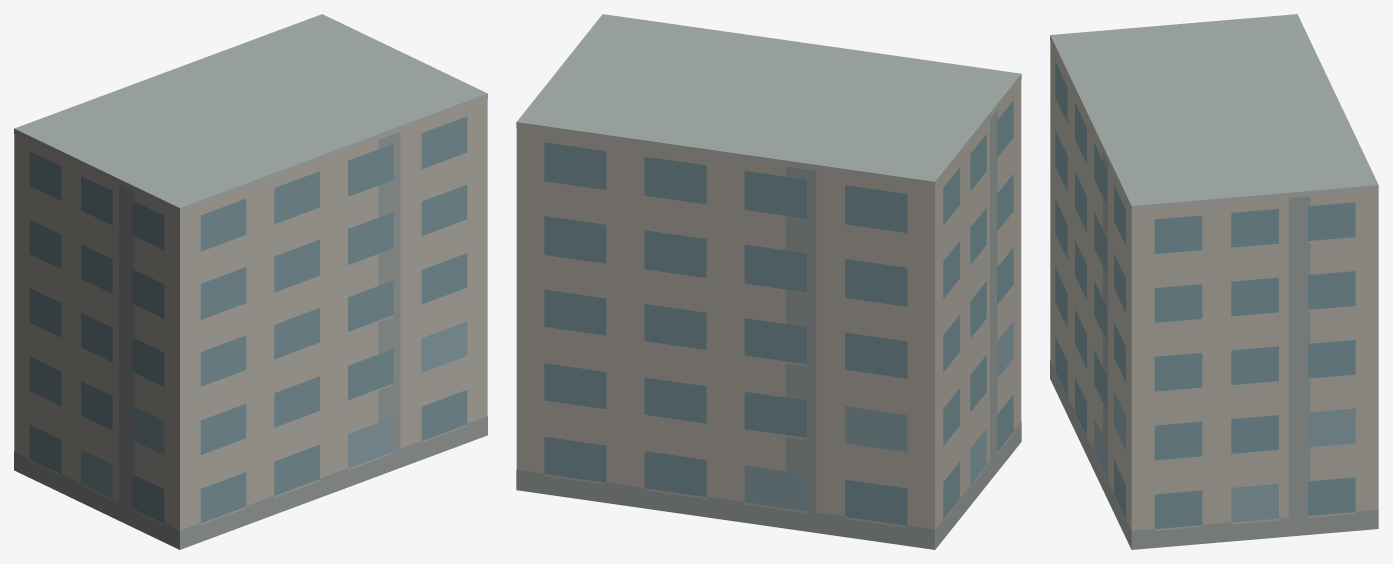
Rendered from residential-6dea9187-d28e-42e7-a55d-4c7c0ea3c9a9.glb.
The picture shows the model from 3 angles, left to right: view 1: azimuth 30°, elevation 25°; view 2: azimuth 150°, elevation 25°; view 3: azimuth 270°, elevation 25°; orthographic projection. The views are drawn at different scales.
Parts seen in each view (by area): view 1: residential-6dea9187-d28e-42e7-a55d-4c7c0ea3c9a9.tmp; view 2: residential-6dea9187-d28e-42e7-a55d-4c7c0ea3c9a9.tmp; view 3: residential-6dea9187-d28e-42e7-a55d-4c7c0ea3c9a9.tmp.
Boxes of the visible parts, box(x1,y1,x2,y2) form: residential-6dea9187-d28e-42e7-a55d-4c7c0ea3c9a9.tmp: box(14, 14, 487, 549); residential-6dea9187-d28e-42e7-a55d-4c7c0ea3c9a9.tmp: box(516, 14, 1021, 549); residential-6dea9187-d28e-42e7-a55d-4c7c0ea3c9a9.tmp: box(1050, 14, 1378, 549).
Bounding box in the file's own units: 18.27 × 15.25 × 13.21.
